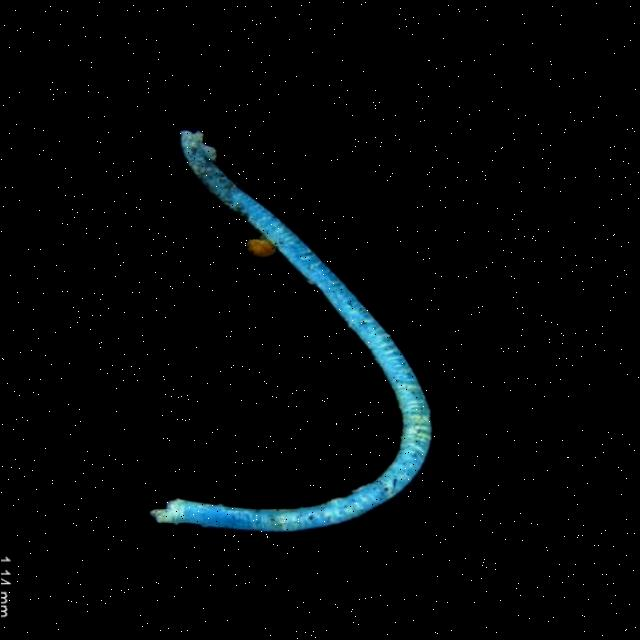Fibre: (150, 119, 440, 556)
